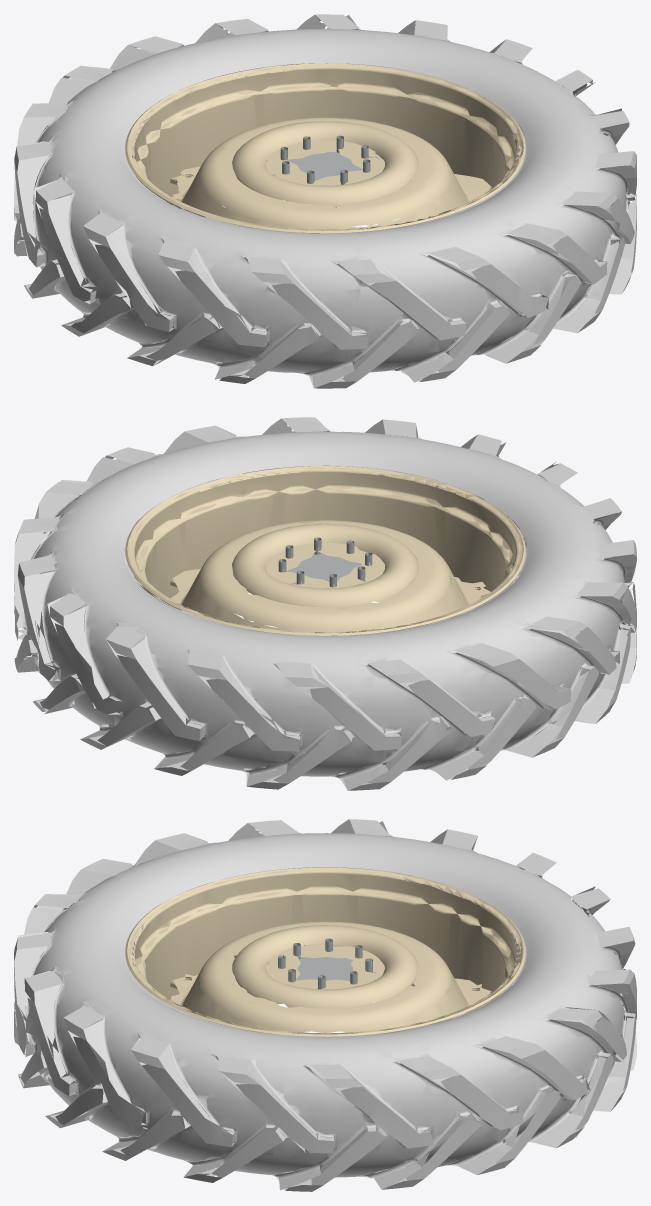
File: rear_left_wheel_visual.obj
3 views of the same model, one above another, from view 1: azimuth 30°, elevation 25°; view 2: azimuth 150°, elevation 25°; view 3: azimuth 270°, elevation 25° (orthographic).
Parts seen in each view (by area): view 1: rear_left_wheel_visual; view 2: rear_left_wheel_visual; view 3: rear_left_wheel_visual.
Boxes of the visible parts, x1,y1,x2,y2 form: rear_left_wheel_visual: [14, 14, 636, 388]; rear_left_wheel_visual: [14, 417, 636, 790]; rear_left_wheel_visual: [14, 819, 636, 1191].
Bounding box in the file's own units: 0.4771 × 0.1082 × 0.477.
